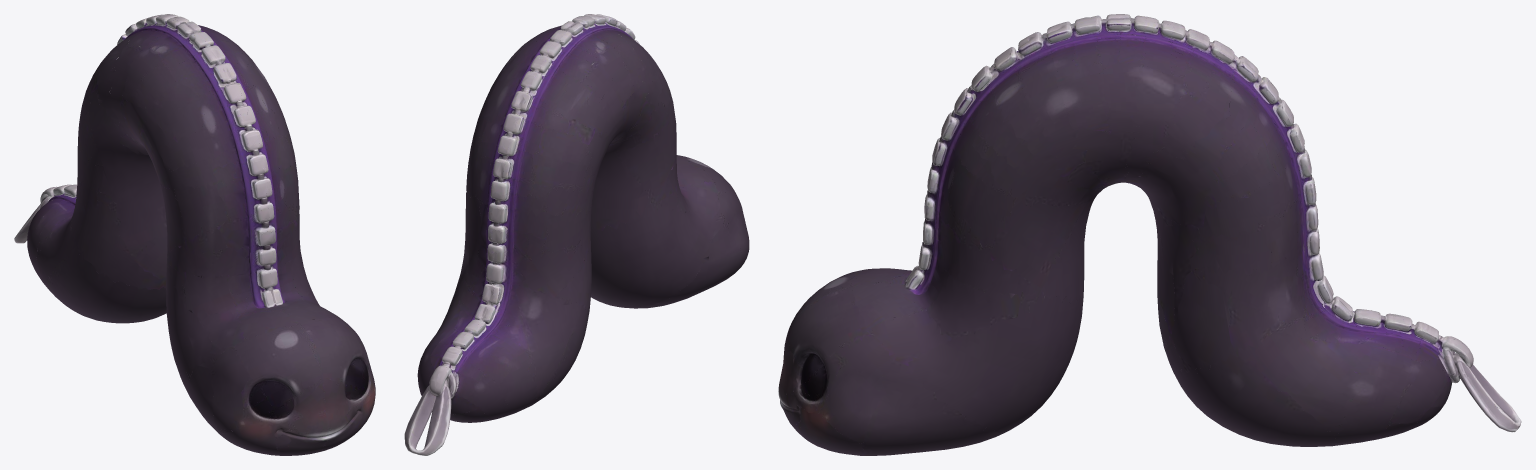
The picture shows the model from 3 angles, left to right: view 1: azimuth 30°, elevation 25°; view 2: azimuth 150°, elevation 25°; view 3: azimuth 270°, elevation 25°; orthographic projection. The views are drawn at different scales.
Visible parts, largest first — view 1: Mesh_0; view 2: Mesh_0; view 3: Mesh_0.
Part boxes in pixels (x1,y1,x2,y2): Mesh_0: (14,14,375,455); Mesh_0: (404,14,749,455); Mesh_0: (778,14,1521,455).
Bounding box in the file's own units: 0.56 × 1.16 × 1.9.
1 material, 1 textured.
